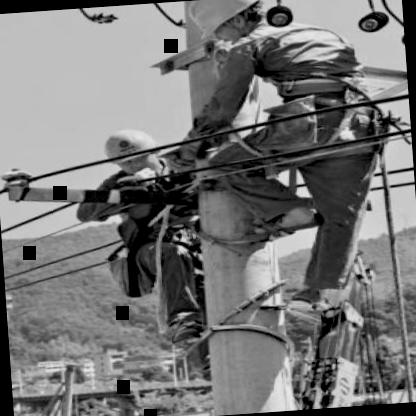helmet: (185, 0, 271, 48), (96, 122, 166, 180)
